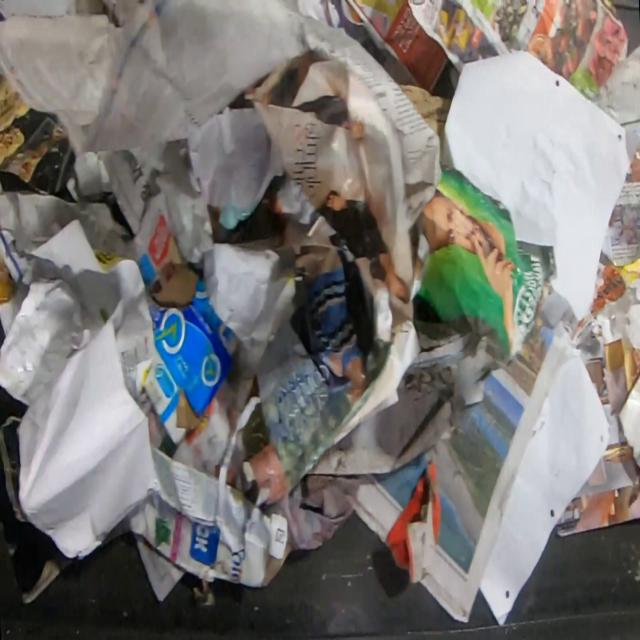cardboard: (101, 443, 294, 608), (136, 251, 242, 449), (277, 211, 371, 400), (0, 230, 94, 410), (0, 415, 74, 606), (385, 461, 443, 588)
